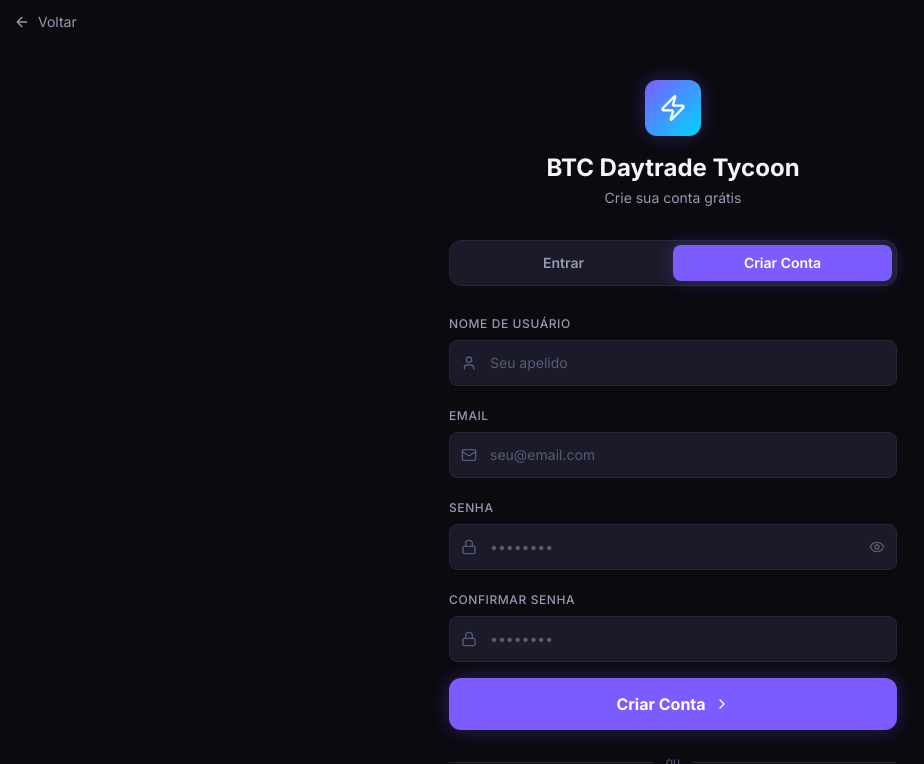
AuthPage pt-BR › shows validateAuthForm errors in Portuguese
This screenshot has width=924, height=764.
Step 1. Click the button "Criar Conta" below "Confirmar Senha" → {"x": 673, "y": 704}, box x1=449 y1=678 x2=897 y2=730
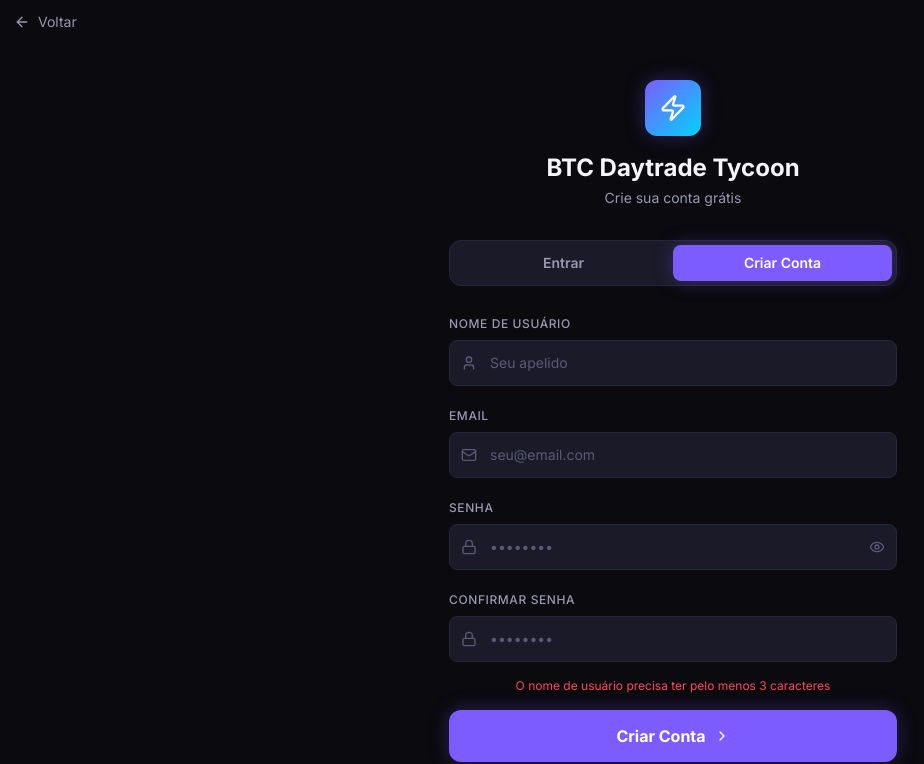
Now the text "O nome de usuário precisa ter pelo menos 3 caracteres" is shown, box x1=516 y1=678 x2=830 y2=693
